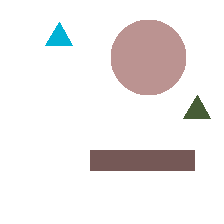circle: (111, 20, 185, 94)
rectangle: (90, 150, 194, 170)
triangle: (45, 22, 72, 45), (183, 95, 210, 118)
